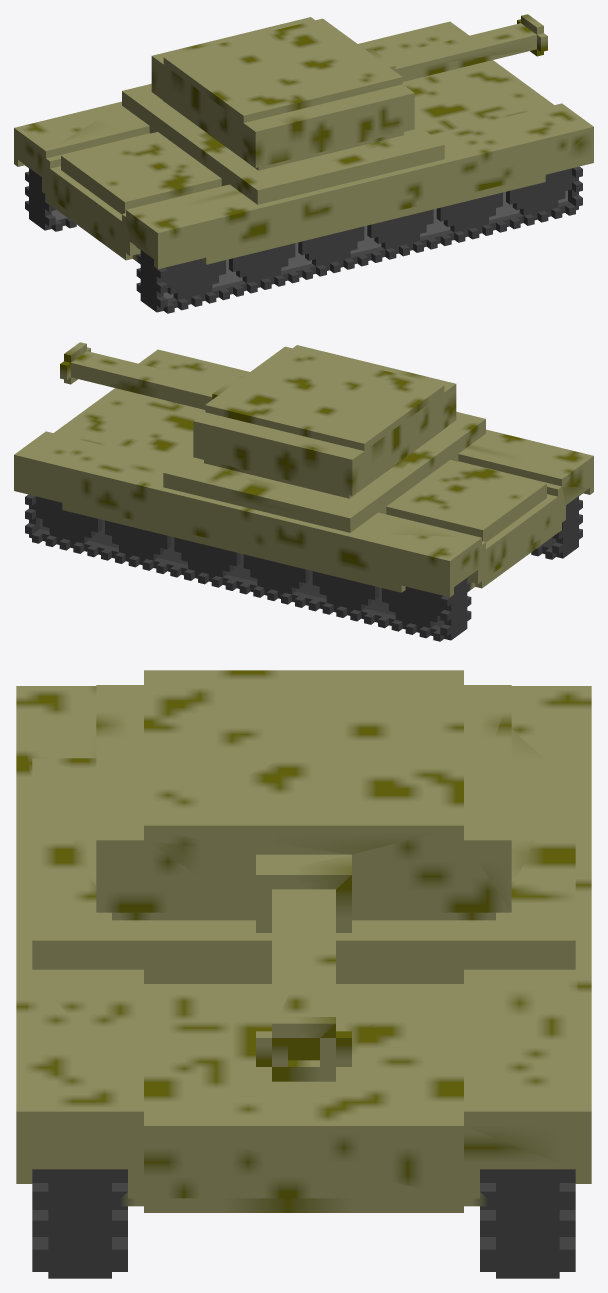
File: veh_tank1.fbx
3 views of the same model, one above another, from view 1: azimuth 30°, elevation 25°; view 2: azimuth 150°, elevation 25°; view 3: azimuth 270°, elevation 25° (orthographic). The views are drawn at different scales.
Parts seen in each view (by area): view 1: veh_tank1; view 2: veh_tank1; view 3: veh_tank1.
Boxes of the visible parts, left/top/right/bottom form: veh_tank1: left=14, top=14, right=593, bottom=313; veh_tank1: left=14, top=342, right=593, bottom=641; veh_tank1: left=16, top=670, right=591, bottom=1278.
Bounding box in the file's own units: 6.5 × 3.6 × 2.1.
1 material, 1 textured.
